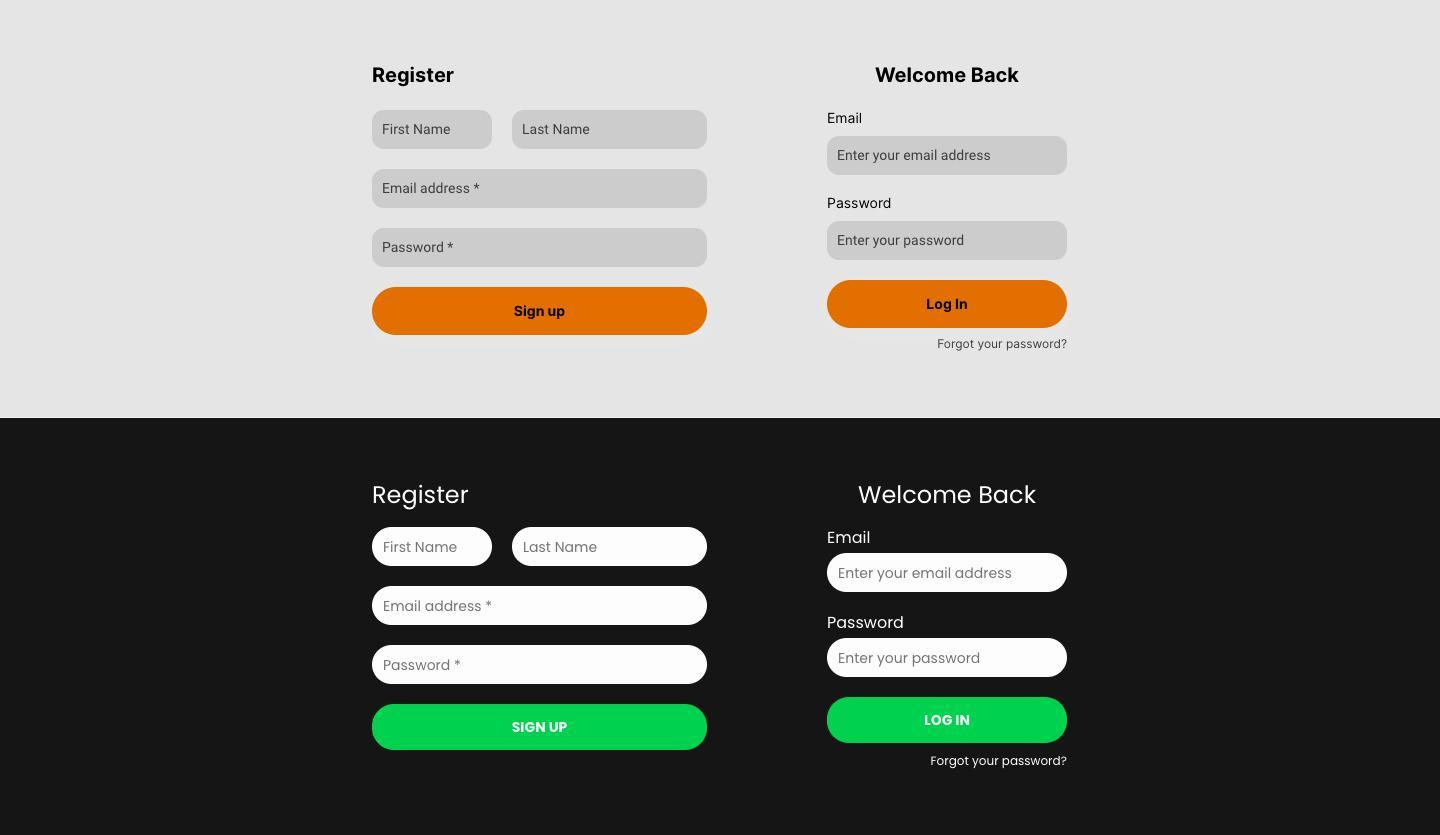button: (372, 287, 709, 339), (373, 704, 708, 751), (824, 280, 1070, 331), (828, 698, 1068, 743)
input: (372, 644, 708, 686), (372, 586, 708, 627), (372, 170, 708, 210), (373, 229, 708, 269), (828, 553, 1068, 595), (828, 138, 1071, 178), (827, 638, 1070, 678), (830, 223, 1066, 262), (512, 527, 709, 569), (512, 111, 705, 152), (374, 109, 494, 153), (372, 527, 493, 569)
label: (859, 479, 1040, 509), (874, 61, 1020, 88), (373, 59, 458, 97), (371, 481, 480, 510), (827, 614, 907, 633), (826, 192, 897, 213), (826, 106, 872, 131), (828, 526, 874, 549)
